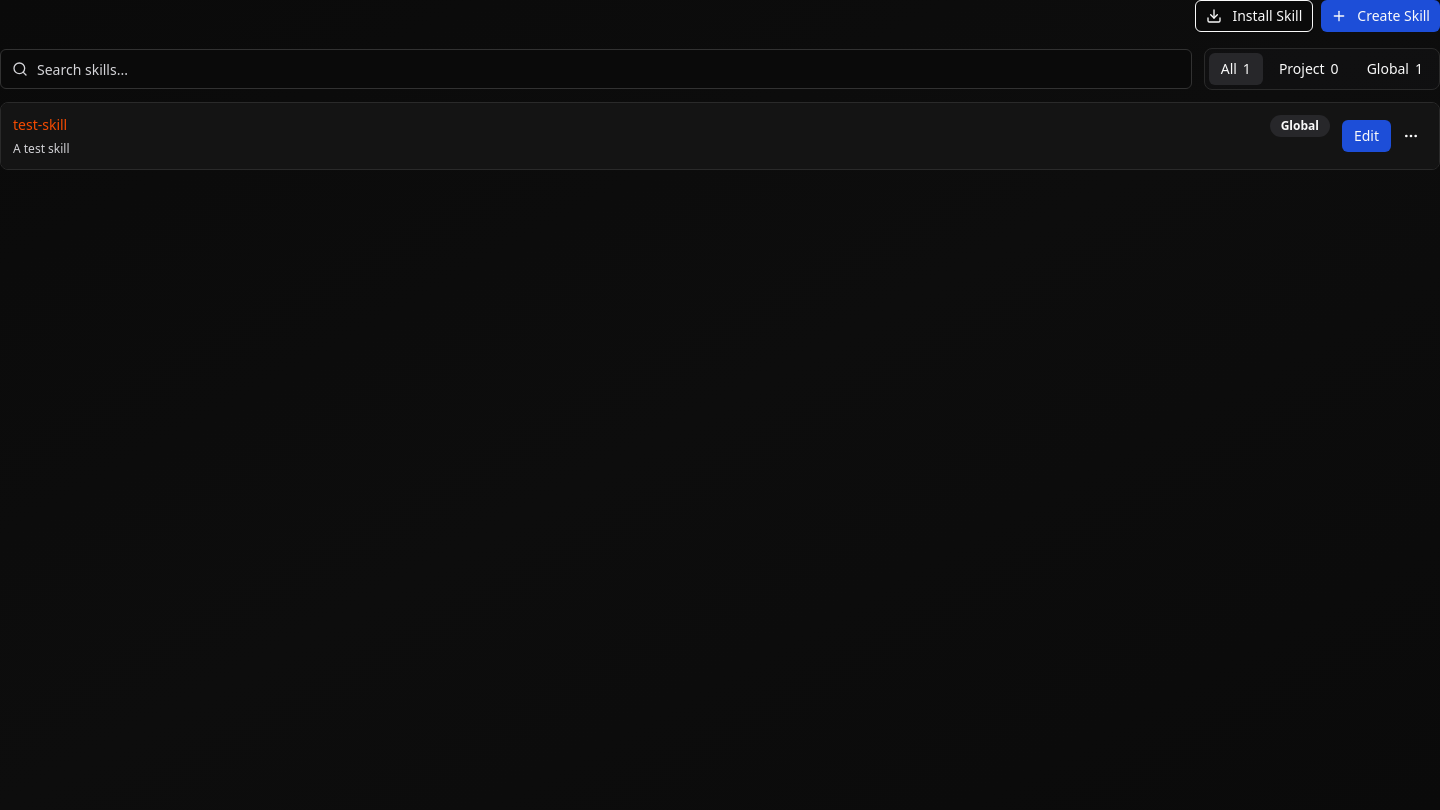
Test: SkillsEditor › delete dialog mentions bundled files
Click the button named "Actions for test-skill" at [1411, 136], box [1395,120,1427,152]
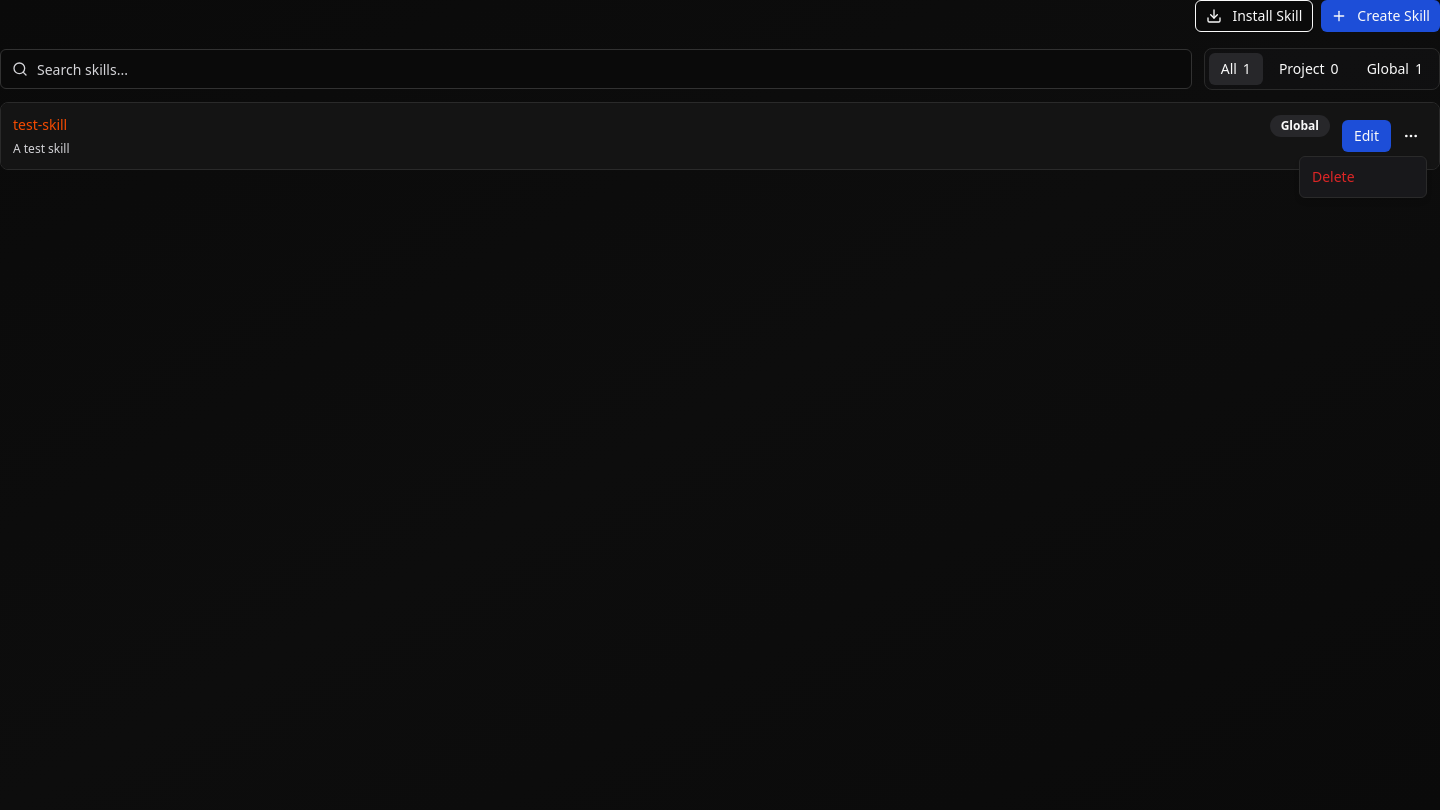
Click the menu item "Delete" at [1333, 176], box [1312,167,1355,186]
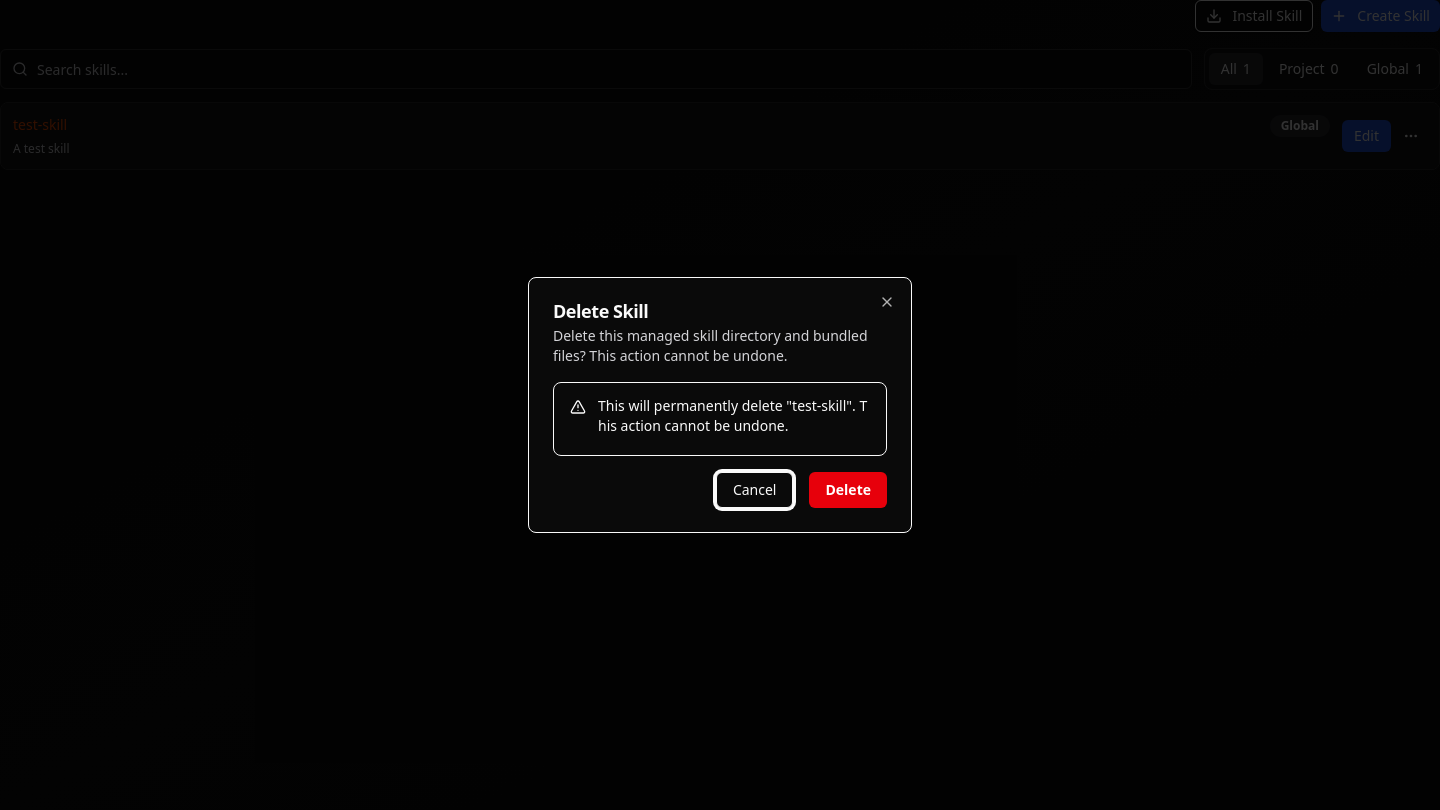
Now the text "bundled files" is shown, box [553,326,868,365]
